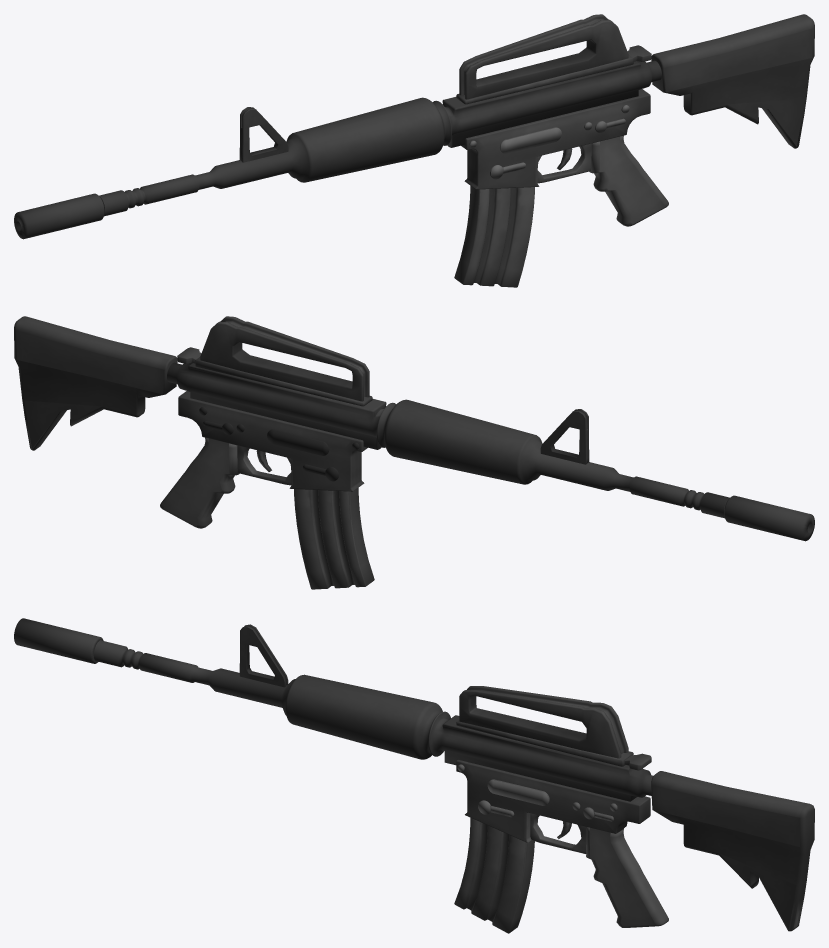
Rendered from rifle2.fbx.
3 views of the same model, one above another, from view 1: azimuth 30°, elevation 25°; view 2: azimuth 150°, elevation 25°; view 3: azimuth 330°, elevation 25° (orthographic).
Parts seen in each view (by area): view 1: m4, holder, cart, silencer; view 2: m4, holder, cart, silencer; view 3: m4, holder, cart, silencer.
Boxes of the visible parts, box(x1,y1,x2,y2) form: m4: box(99, 14, 814, 226); holder: box(459, 14, 628, 99); cart: box(454, 186, 534, 287); silencer: box(14, 193, 104, 239); m4: box(14, 316, 729, 528); holder: box(200, 316, 369, 401); cart: box(294, 488, 374, 589); silencer: box(724, 495, 814, 541); m4: box(93, 624, 814, 931); holder: box(459, 686, 628, 758); cart: box(454, 817, 534, 933); silencer: box(14, 618, 103, 663).
Bounding box in the file's own units: 88.79 × 26.31 × 5.71.
1 material, 1 textured.
